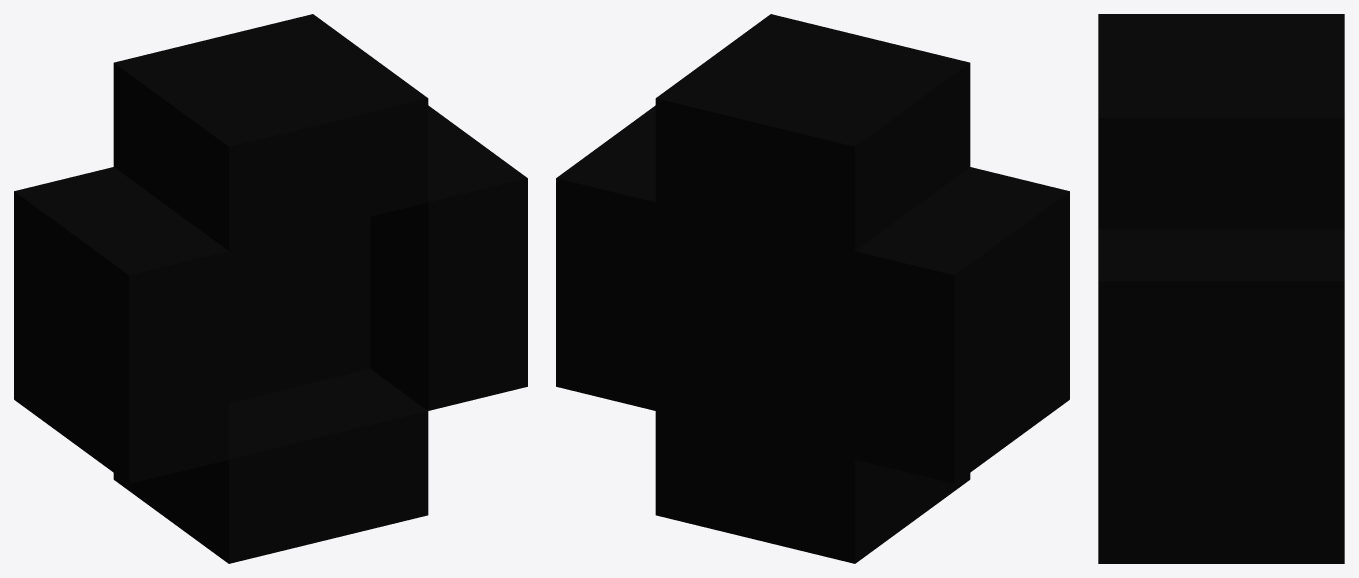
Rendered from blackr.fbx.
3 views of the same model, side by side, from view 1: azimuth 30°, elevation 25°; view 2: azimuth 150°, elevation 25°; view 3: azimuth 270°, elevation 25° (orthographic). The views are drawn at different scales.
Visible parts, largest first — view 1: cube.004, cube.005, cube.002, cube.003, cube.001; view 2: cube.004, cube.005, cube.001, cube.002, cube.003; view 3: cube.003, cube.005, cube.002.
Boxes of the visible parts, bbox=[...] form: cube.004: bbox=[14, 167, 228, 483]; cube.005: bbox=[113, 14, 428, 250]; cube.002: bbox=[113, 369, 428, 563]; cube.003: bbox=[370, 105, 527, 410]; cube.001: bbox=[229, 216, 370, 403]; cube.004: bbox=[855, 167, 1069, 483]; cube.005: bbox=[655, 14, 970, 250]; cube.001: bbox=[655, 202, 854, 459]; cube.002: bbox=[655, 411, 970, 563]; cube.003: bbox=[556, 105, 655, 410]; cube.003: bbox=[1098, 229, 1344, 504]; cube.005: bbox=[1098, 14, 1344, 229]; cube.002: bbox=[1098, 504, 1344, 563].
Bounding box in the file's own units: 25 × 25 × 12.5.
1 material, 1 textured.
